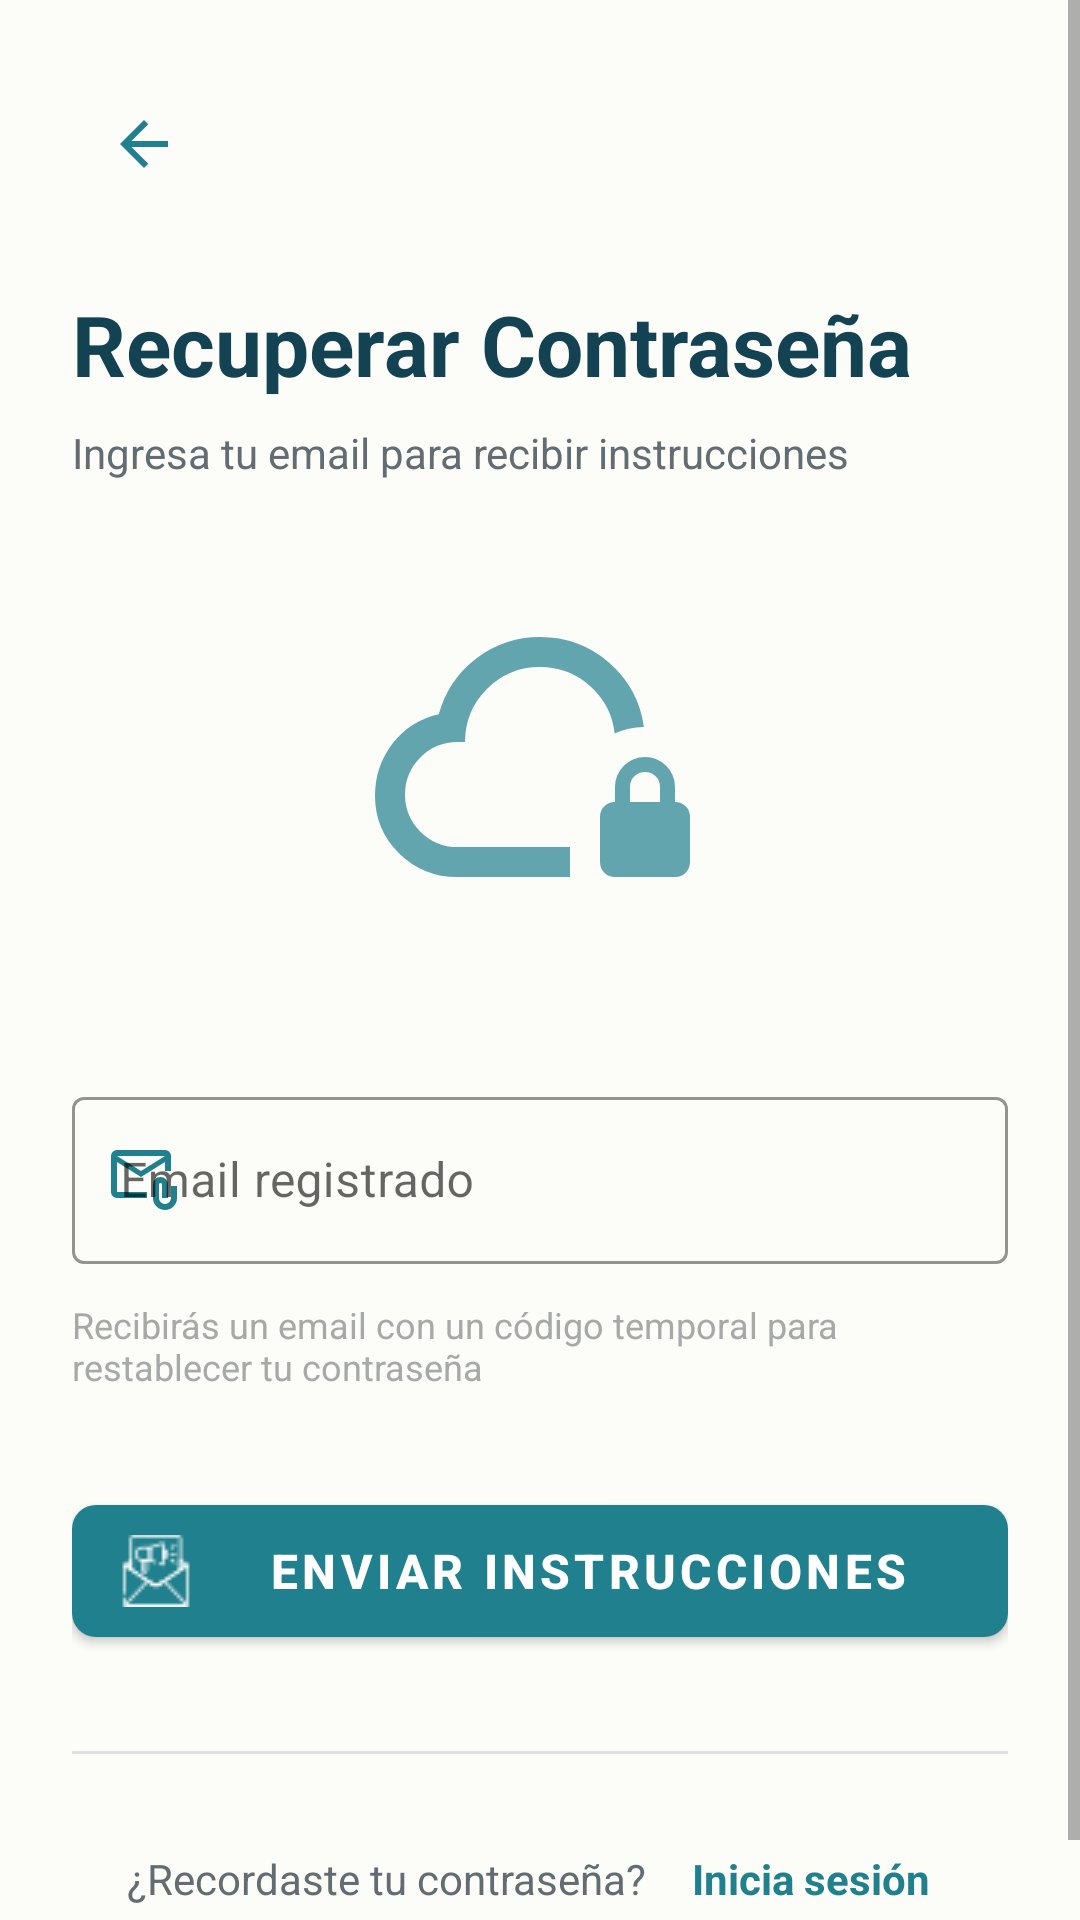

Icon bounding boxes for this 1080w x 1920h phone screenshot, format (x1, y1, x2, y2):
Contraseña: (375, 637, 690, 877)
Volver: (120, 120, 168, 168)
